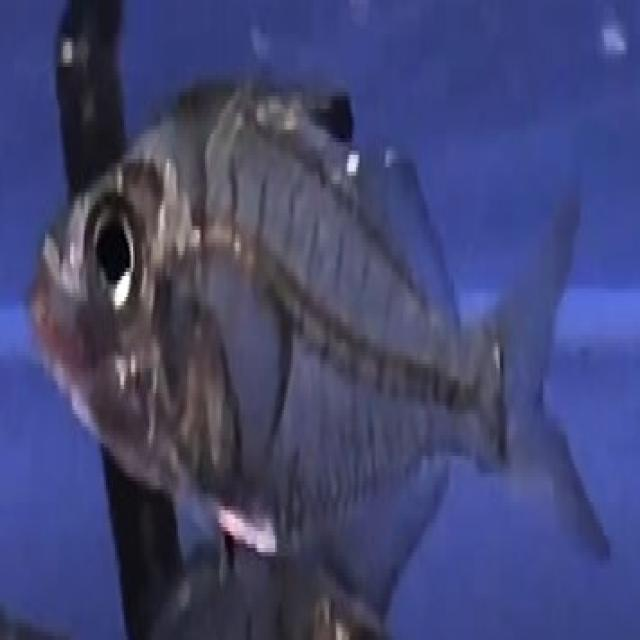Glass-Perchlet: (12, 47, 638, 571)
